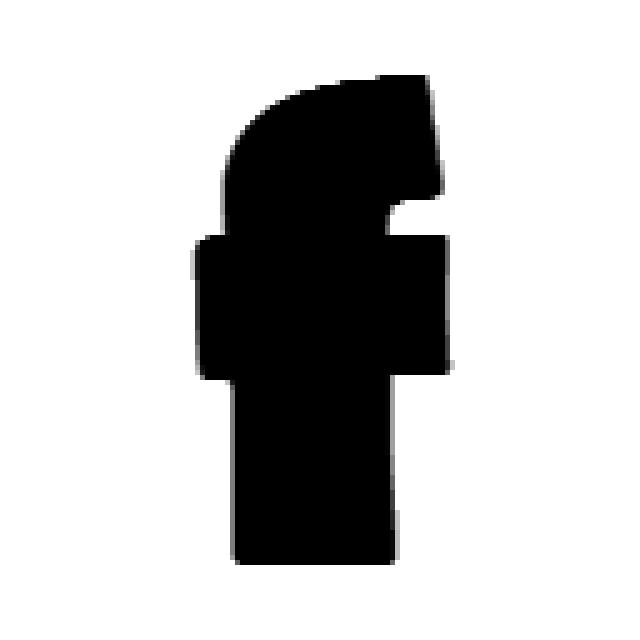F: (180, 65, 460, 570)
